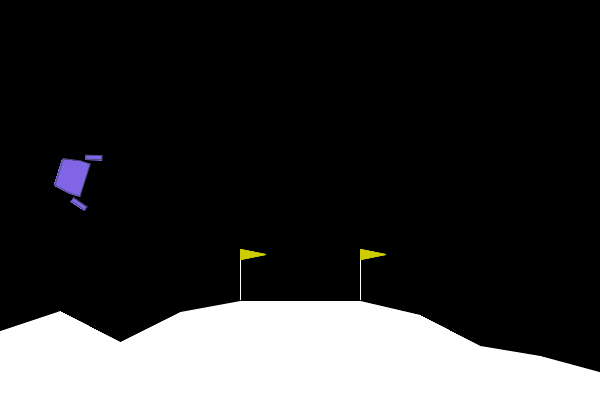lander: (48, 143, 104, 212)
